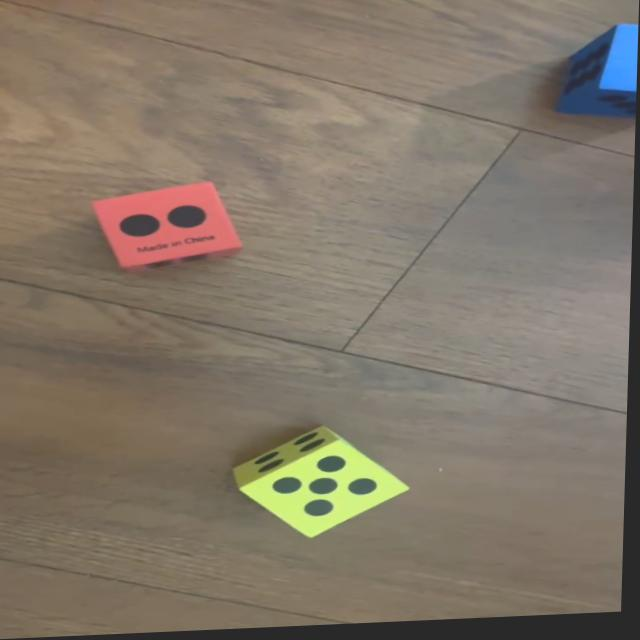cube: (93, 181, 247, 273), (559, 28, 639, 121)
